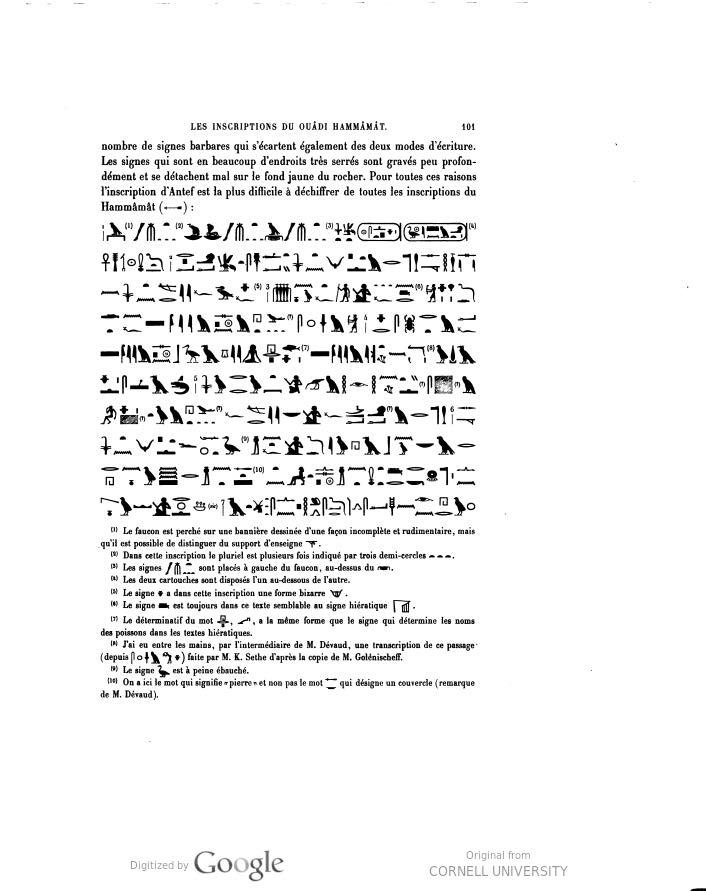circle: (397, 210, 474, 246), (339, 216, 406, 252)
